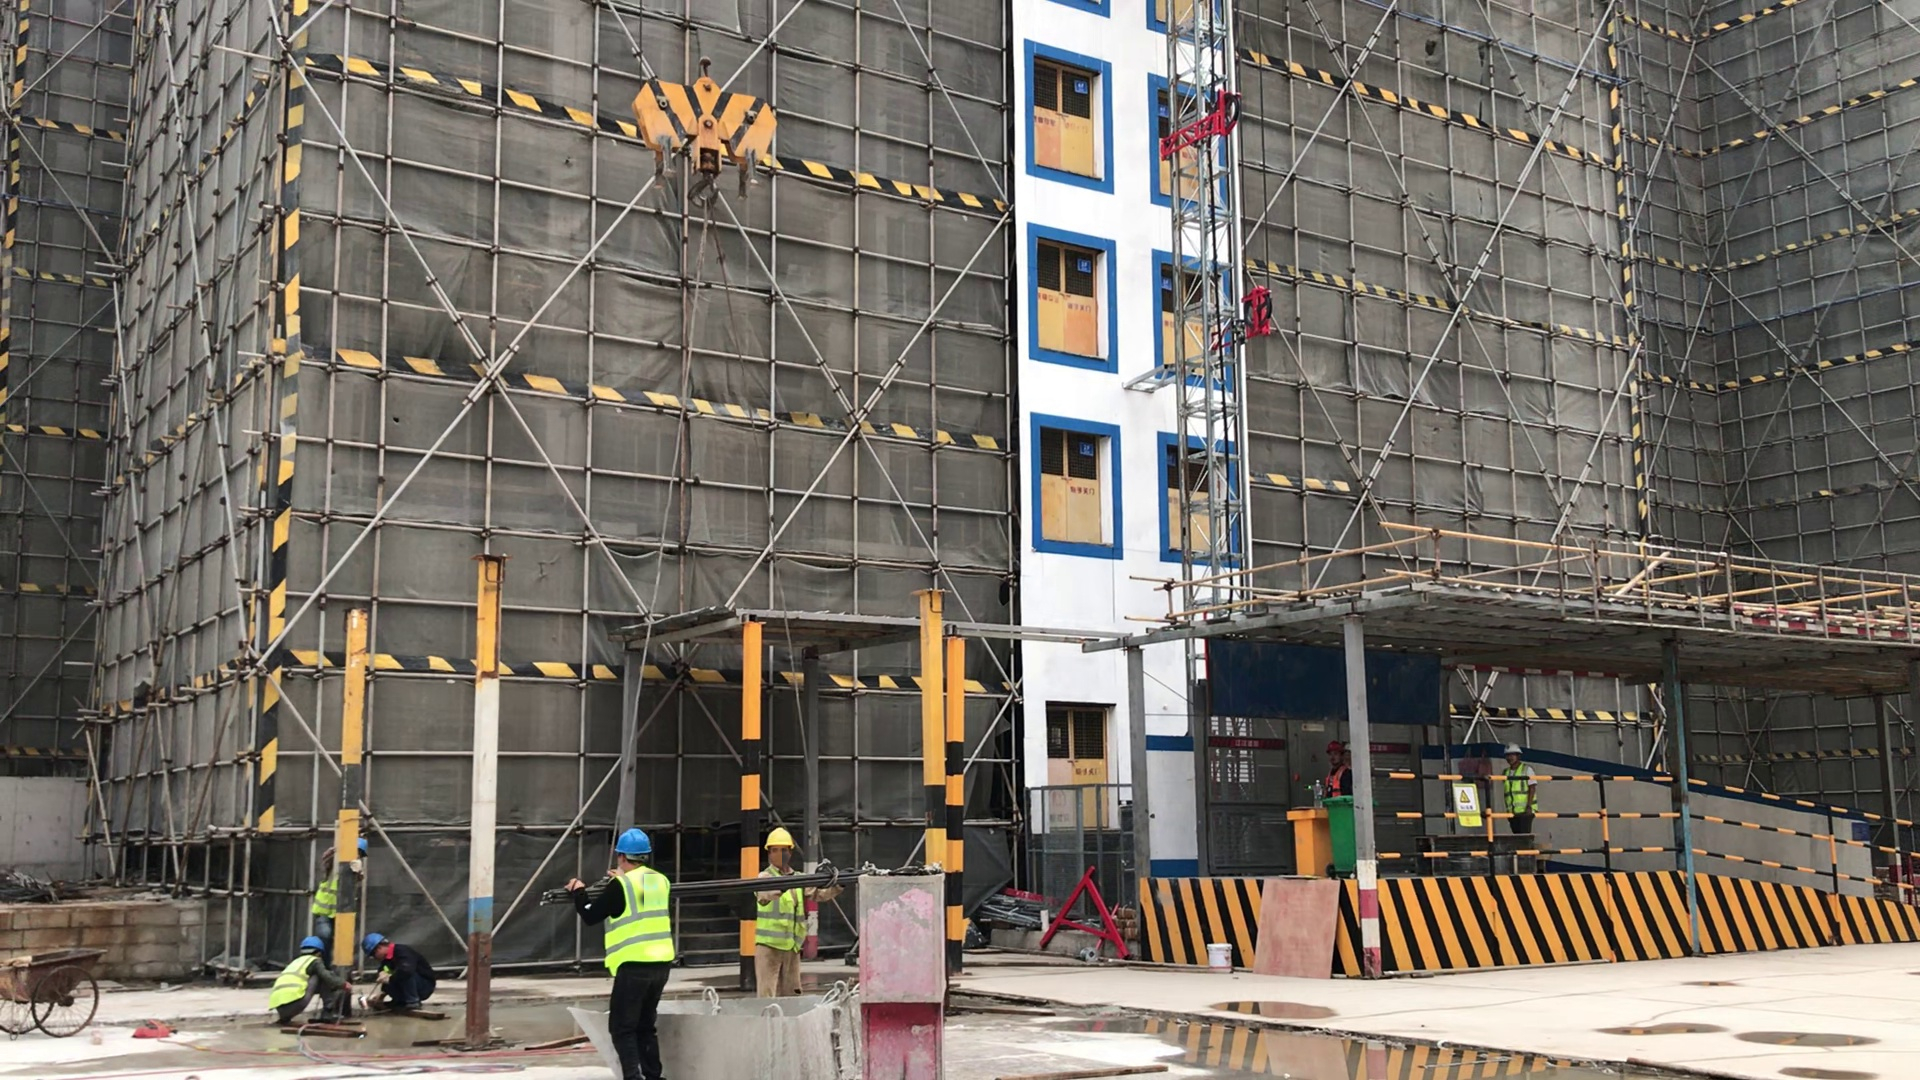fence: (1364, 765, 1920, 909)
handcart: (2, 930, 133, 1058)
helmet: (609, 823, 667, 862), (761, 819, 811, 856), (355, 927, 392, 962), (297, 923, 332, 958), (348, 830, 381, 858), (1502, 735, 1535, 761), (1325, 735, 1351, 764)
hook: (621, 42, 787, 224)
hopper: (540, 970, 867, 1080)
person: (555, 799, 689, 1080), (732, 812, 851, 996), (261, 916, 355, 1041), (348, 922, 448, 1034), (1483, 727, 1555, 856), (308, 810, 378, 927), (1319, 724, 1365, 816)
rebar: (663, 875, 871, 900), (532, 882, 606, 905)
slogan: (1426, 773, 1494, 835)
vest: (586, 868, 686, 984), (747, 859, 822, 962), (266, 945, 324, 1022), (305, 858, 363, 919), (1494, 763, 1542, 824), (1312, 760, 1348, 794)
